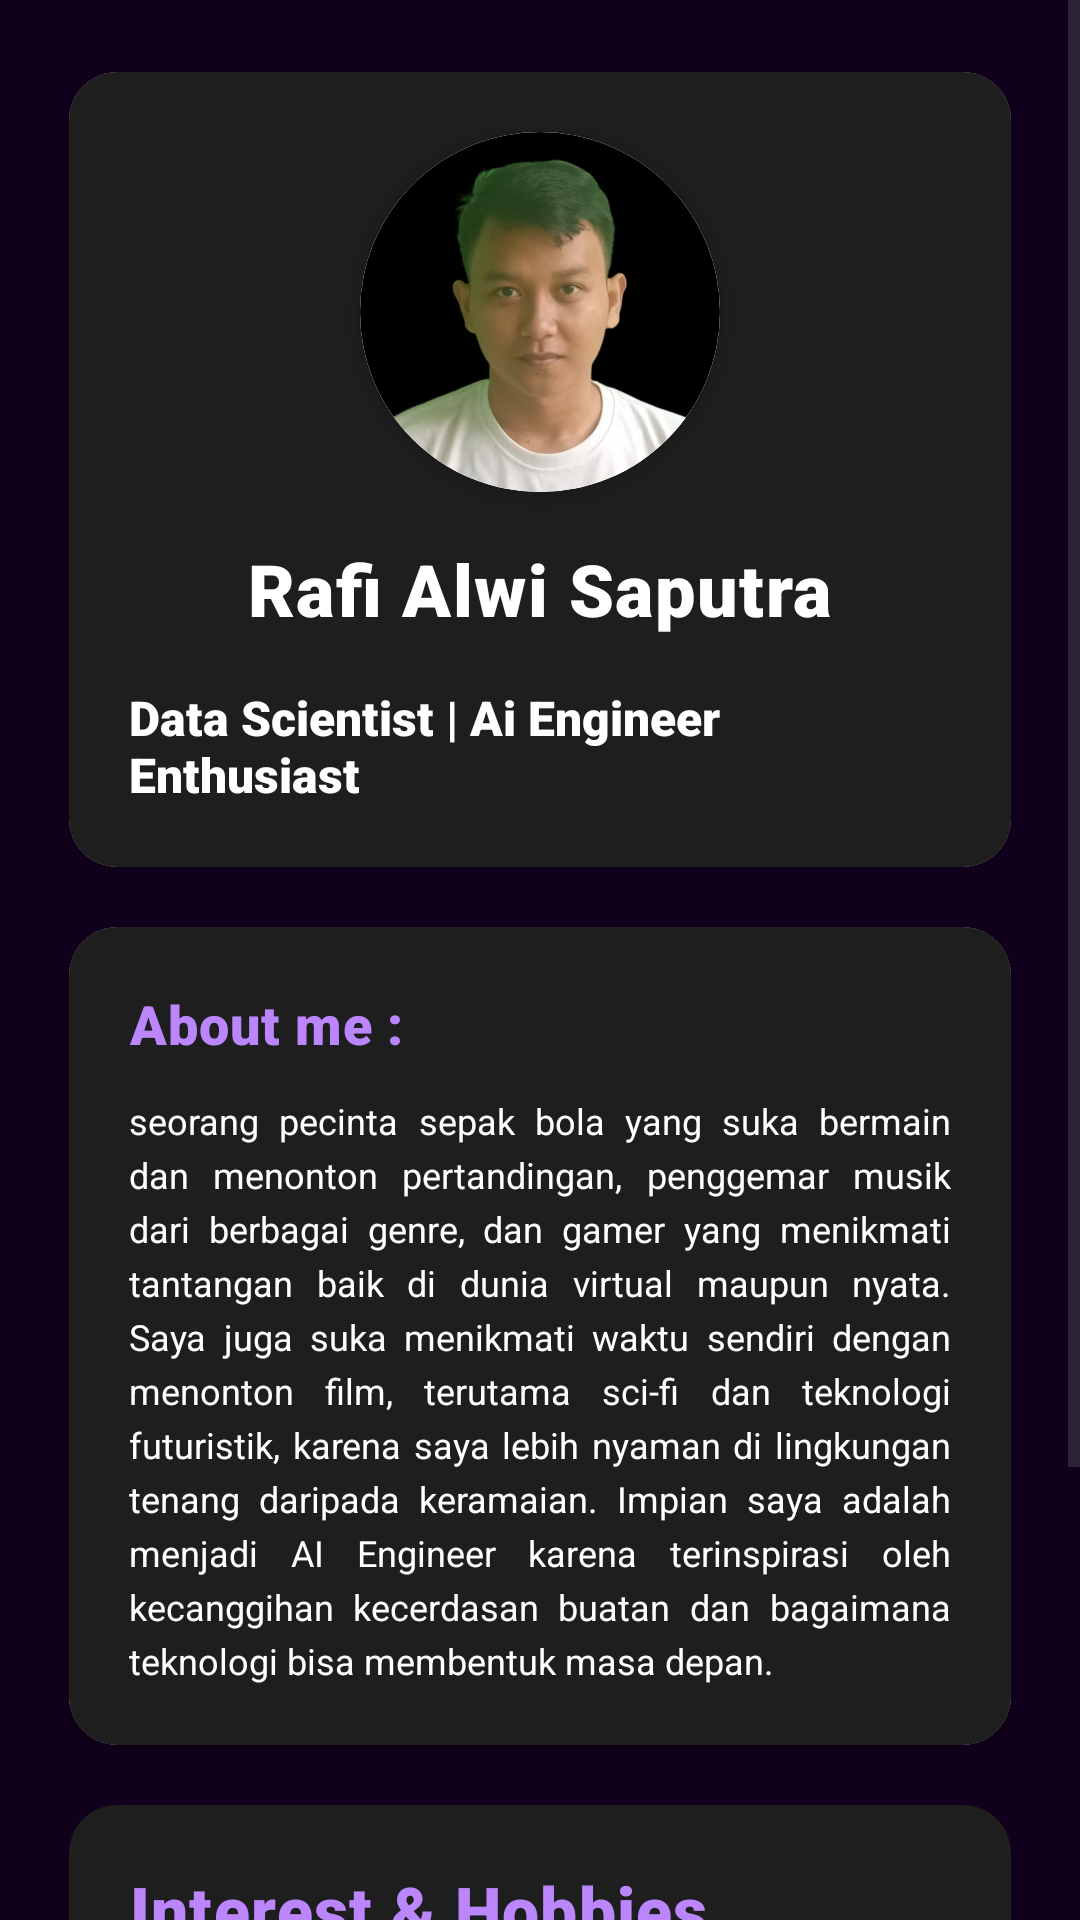

Icons on this 1080px x 1920px Android screen, each with the point to tap as (x,y):
profile photo: (540,312)
